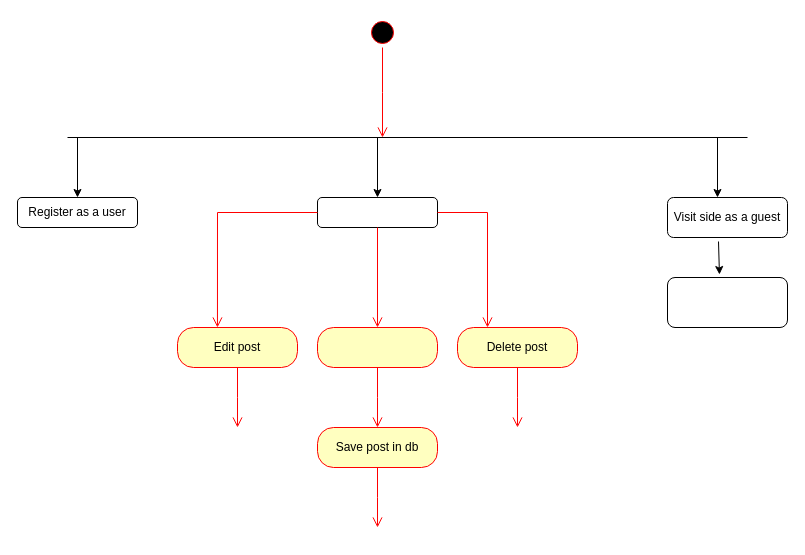
Some shapes in this 805 by 555 pixel diagram are drawn without their labels. Here are the shapes that lost their labels. From the top down, the centre of each, then its label:
At (x=377, y=212): "login as an admin".
At (x=727, y=302): "Leave Comment on posts".
At (x=377, y=347): "Create post".
